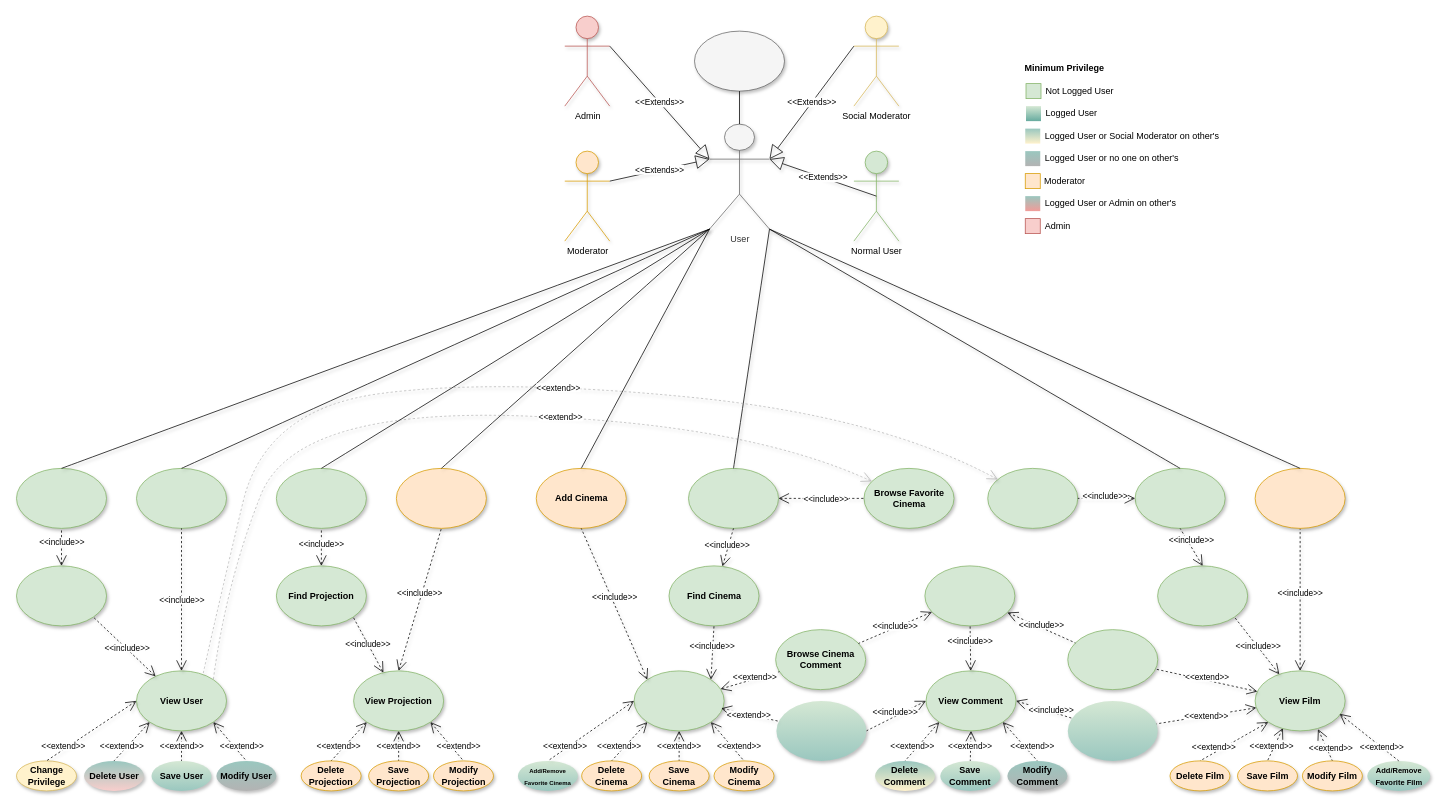
Some shapes in this 1448 by 809 pixel diagram are drawn without their labels. Here are the shapes that lost their labels. From the top down, the centre of each, then its label:
At point 740,61: "Login/Logout".
At point 62,499: "Browse User".
At point 182,499: "Register".
At point 322,499: "Browse Projection".
At point 442,499: "Add Projection".
At point 734,499: "Browse Cinema".
At point 1033,499: "Browse Favorite Film".
At point 1180,499: "Browse Film".
At point 1300,499: "Add Film".
At point 62,596: "Find User".
At point 970,596: "Find Comment".
At point 1203,596: "Find Film".
At point 1113,660: "Browse Film Comment".
At point 679,701: "View Cinema".
At point 822,732: "Add Cinema Comment".
At point 1113,732: "Add Film Comment".
